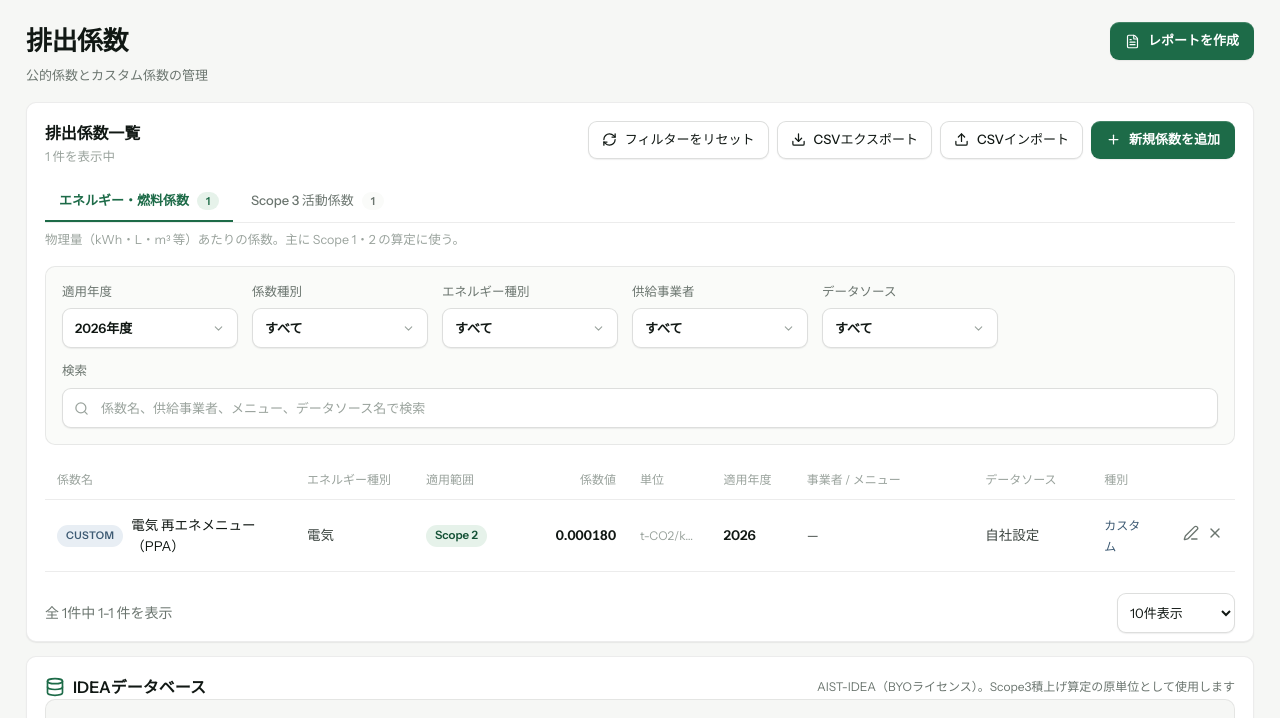
Test: 排出係数の一覧（エネルギー・燃料 / Scope 3 活動のタブ） › 「Scope 3 活動係数」タブへ切り替えると活動係数だけが並び、列は「活動カテゴリ」と呼ぶ
Click the tab "Scope 3 活動係数 1" at (317, 202), box [237, 182, 398, 222]
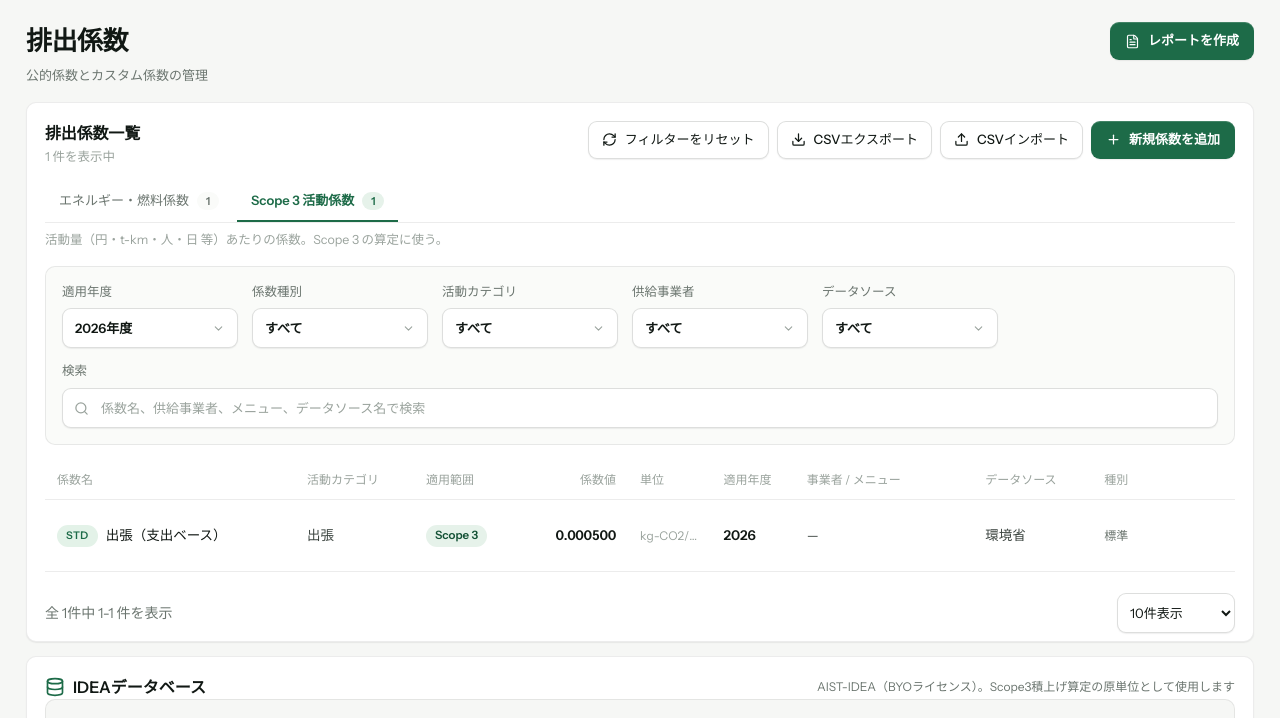
Expected: the label "活動カテゴリ" is shown, [442, 284, 517, 298]
